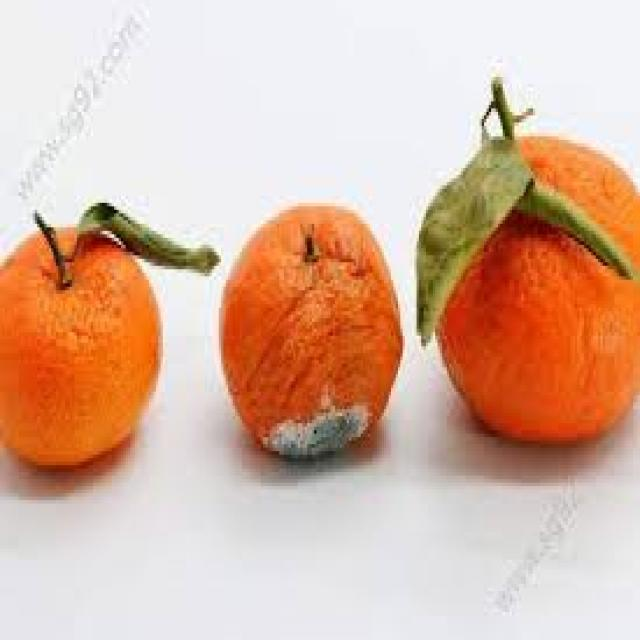biodegradable: (433, 130, 638, 445), (217, 203, 403, 458), (0, 220, 161, 465), (415, 137, 529, 347), (33, 200, 219, 291), (517, 178, 633, 280), (482, 77, 528, 147)
